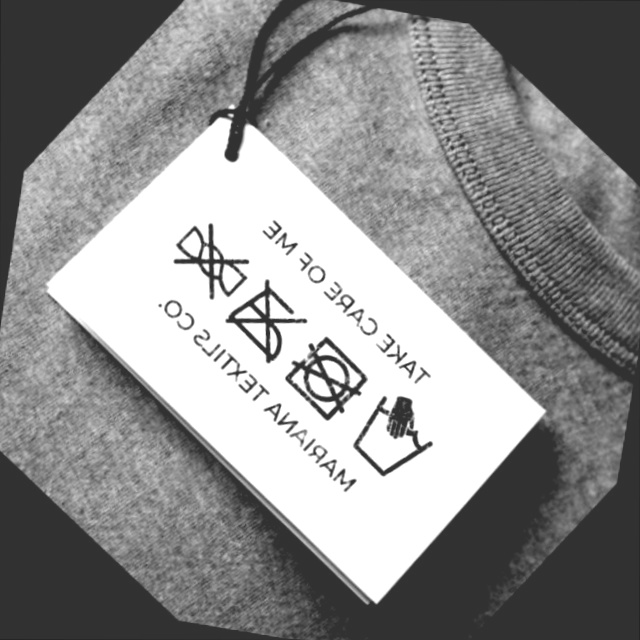DN_iron: (224, 275, 310, 366)
DN_tumble_dry: (284, 331, 376, 422)
DN_wring: (167, 216, 257, 302)
hand_wash: (347, 386, 442, 490)
